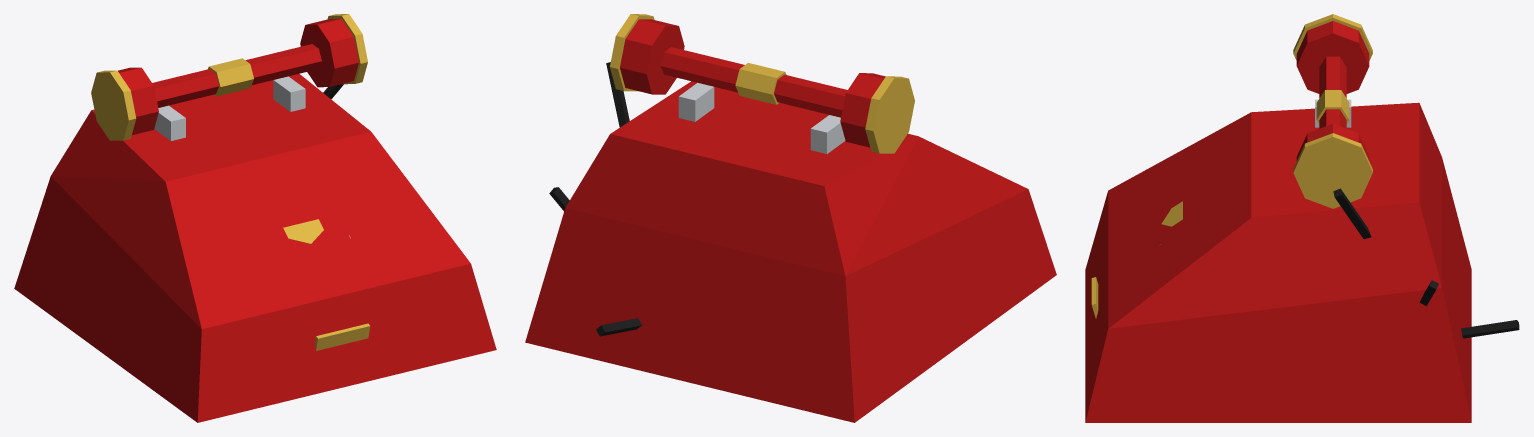
Rendered from rotary_phone.glb.
3 views of the same model, side by side, from view 1: azimuth 30°, elevation 25°; view 2: azimuth 150°, elevation 25°; view 3: azimuth 270°, elevation 25° (orthographic). The views are drawn at different scales.
Visible parts, largest first — view 1: Flocon_Vintage_Phone; view 2: Flocon_Vintage_Phone; view 3: Flocon_Vintage_Phone.
Part boxes in pixels (box(x1,y1,x2,y2)): Flocon_Vintage_Phone: box(14, 14, 496, 422); Flocon_Vintage_Phone: box(525, 14, 1056, 422); Flocon_Vintage_Phone: box(1085, 14, 1519, 422).
Size of the model in its own units: 1.6 by 1.36 by 1.91.
